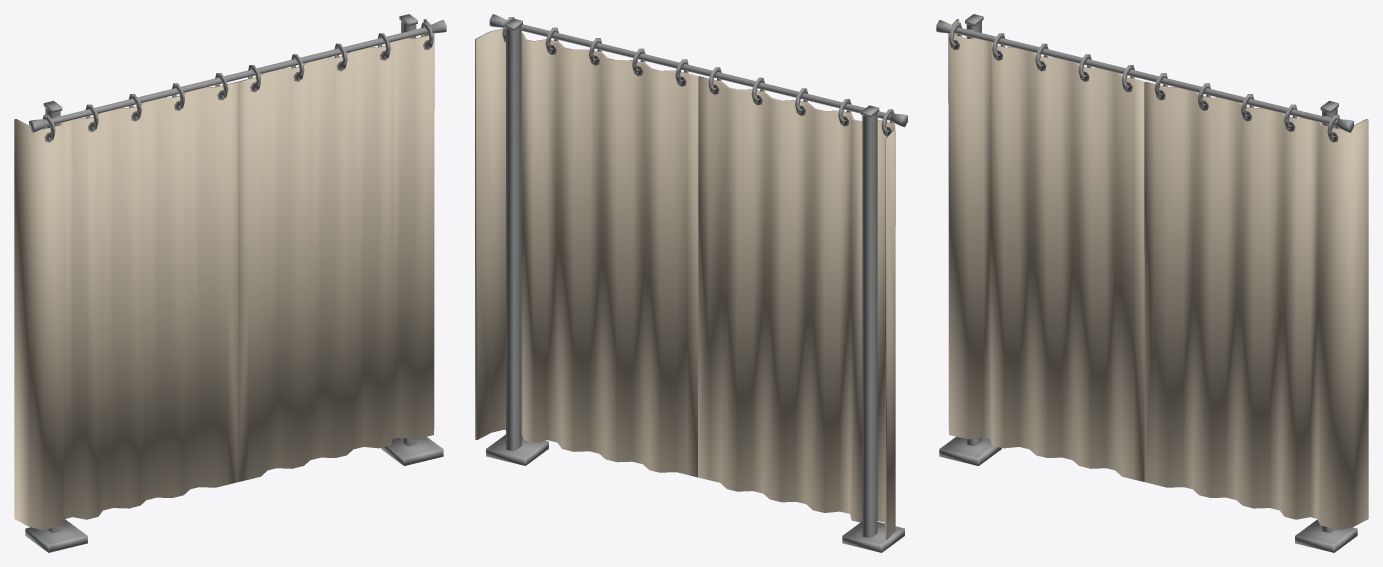
3 renders of one model, left to right at view 1: azimuth 30°, elevation 25°; view 2: azimuth 150°, elevation 25°; view 3: azimuth 330°, elevation 25°, orthographic.
Size of the model in its own units: 20 by 20.06 by 2.2.
2 materials, 2 textured.
